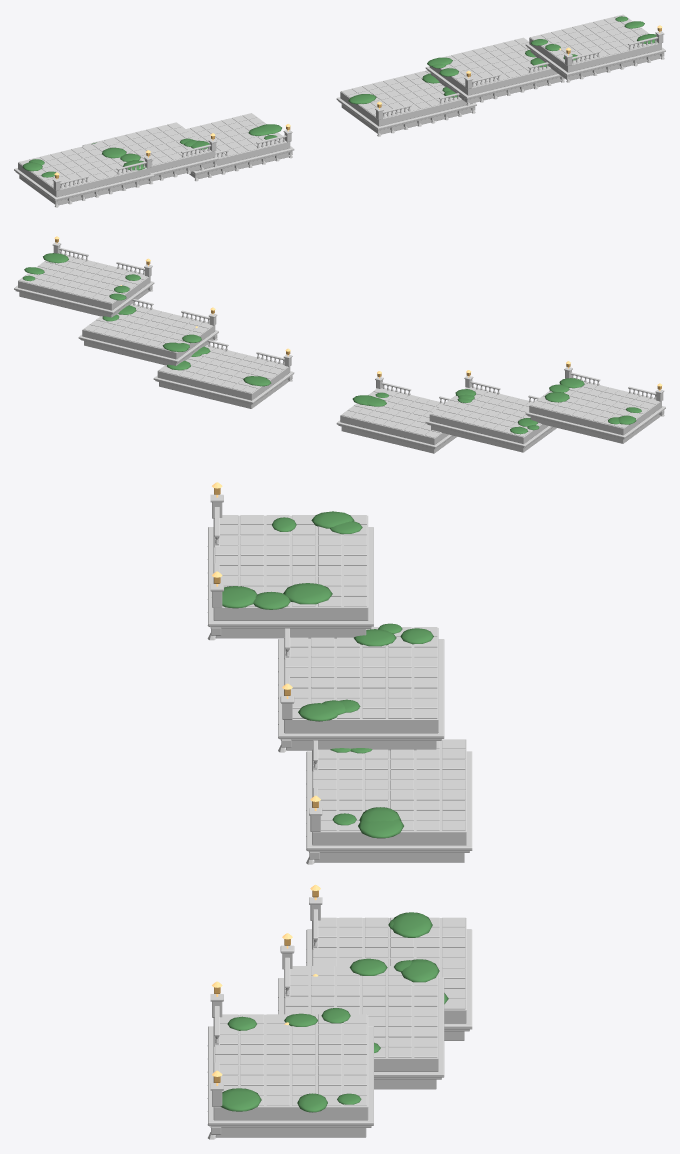
File: 11_Terracos.fbx
The picture shows the model from 3 angles, top to bottom: view 1: azimuth 30°, elevation 25°; view 2: azimuth 150°, elevation 25°; view 3: azimuth 270°, elevation 25°; orthographic projection. The views are drawn at different scales.
Parts seen in each view (by area): view 1: Ter_CELESTIAL_Laje, Ter_FOREST_Laje, Ter_VOLCANO_Laje, Ter_SHADOW_Laje, Ter_DESERT_Laje, Ter_ICE_Laje, Ter_FOREST_Cornj1, Ter_CELESTIAL_Cornj1, Ter_VOLCANO_Cornj1, Ter_SHADOW_Cornj1, Ter_VOLCANO_Fascia, Ter_FOREST_Fascia (+4 smaller); view 2: Ter_CELESTIAL_Laje, Ter_VOLCANO_Laje, Ter_FOREST_Laje, Ter_SHADOW_Laje, Ter_ICE_Laje, Ter_DESERT_Laje, Ter_VOLCANO_Fascia, Ter_FOREST_Fascia, Ter_ICE_Fascia, Ter_CELESTIAL_Fascia, Ter_DESERT_Fascia, Ter_SHADOW_Fascia (+6 smaller); view 3: Ter_CELESTIAL_Laje, Ter_DESERT_Laje, Ter_ICE_Laje, Ter_FOREST_Laje, Ter_SHADOW_Laje, Ter_DESERT_Cornj1, Ter_ICE_Cornj1, Ter_FOREST_Cornj1, Ter_CELESTIAL_Cornj1, Ter_VOLCANO_Laje, Ter_CELESTIAL_Fascia, Ter_DESERT_Fascia (+4 smaller).
Part boxes in pixels (x1,y1,x2,y2): Ter_CELESTIAL_Laje: (529, 17, 661, 72); Ter_FOREST_Laje: (18, 142, 150, 197); Ter_VOLCANO_Laje: (340, 71, 472, 126); Ter_SHADOW_Laje: (429, 40, 557, 95); Ter_DESERT_Laje: (189, 115, 290, 170); Ter_ICE_Laje: (82, 125, 215, 172); Ter_FOREST_Cornj1: (14, 168, 154, 200); Ter_CELESTIAL_Cornj1: (525, 43, 665, 75); Ter_VOLCANO_Cornj1: (336, 97, 476, 129); Ter_SHADOW_Cornj1: (425, 66, 560, 98); Ter_VOLCANO_Fascia: (341, 104, 471, 134); Ter_FOREST_Fascia: (19, 175, 149, 205); Ter_CELESTIAL_Laje: (18, 258, 150, 310); Ter_VOLCANO_Laje: (157, 348, 290, 400); Ter_FOREST_Laje: (529, 383, 661, 435); Ter_SHADOW_Laje: (82, 307, 215, 359); Ter_ICE_Laje: (429, 389, 548, 443); Ter_DESERT_Laje: (340, 390, 448, 444); Ter_VOLCANO_Fascia: (159, 379, 288, 408); Ter_FOREST_Fascia: (530, 414, 660, 443); Ter_ICE_Fascia: (431, 425, 556, 452); Ter_CELESTIAL_Fascia: (19, 289, 149, 317); Ter_DESERT_Fascia: (341, 426, 456, 453); Ter_SHADOW_Fascia: (84, 338, 213, 365); Ter_CELESTIAL_Laje: (213, 1014, 368, 1120); Ter_DESERT_Laje: (312, 739, 466, 845); Ter_ICE_Laje: (284, 627, 438, 733); Ter_FOREST_Laje: (213, 515, 368, 620); Ter_SHADOW_Laje: (284, 966, 438, 1071); Ter_DESERT_Cornj1: (306, 751, 472, 850); Ter_ICE_Cornj1: (278, 639, 444, 738); Ter_FOREST_Cornj1: (208, 527, 373, 626); Ter_CELESTIAL_Cornj1: (208, 1026, 373, 1125); Ter_VOLCANO_Laje: (312, 918, 466, 1023); Ter_CELESTIAL_Fascia: (215, 1128, 366, 1137); Ter_DESERT_Fascia: (314, 853, 464, 862).
Bounding box in the file's own units: 20190 × 2038 × 3767.
